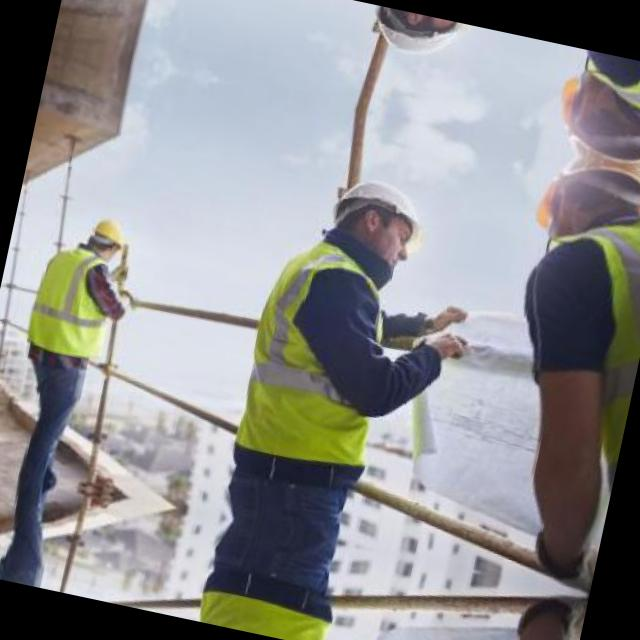helmet: (314, 162, 444, 276), (517, 150, 640, 270), (538, 54, 640, 174), (356, 2, 478, 76), (79, 210, 133, 270)
